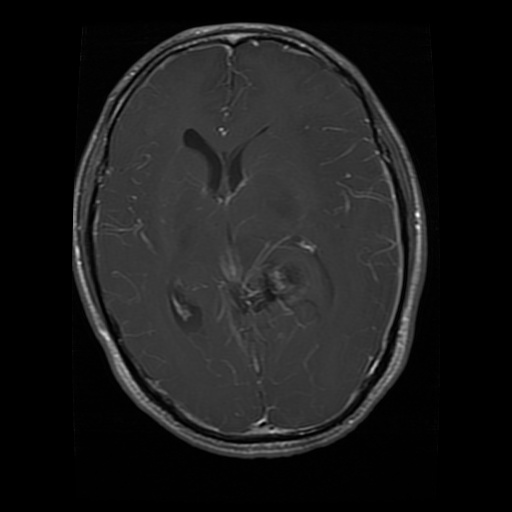glioma: (217, 261, 310, 325)
